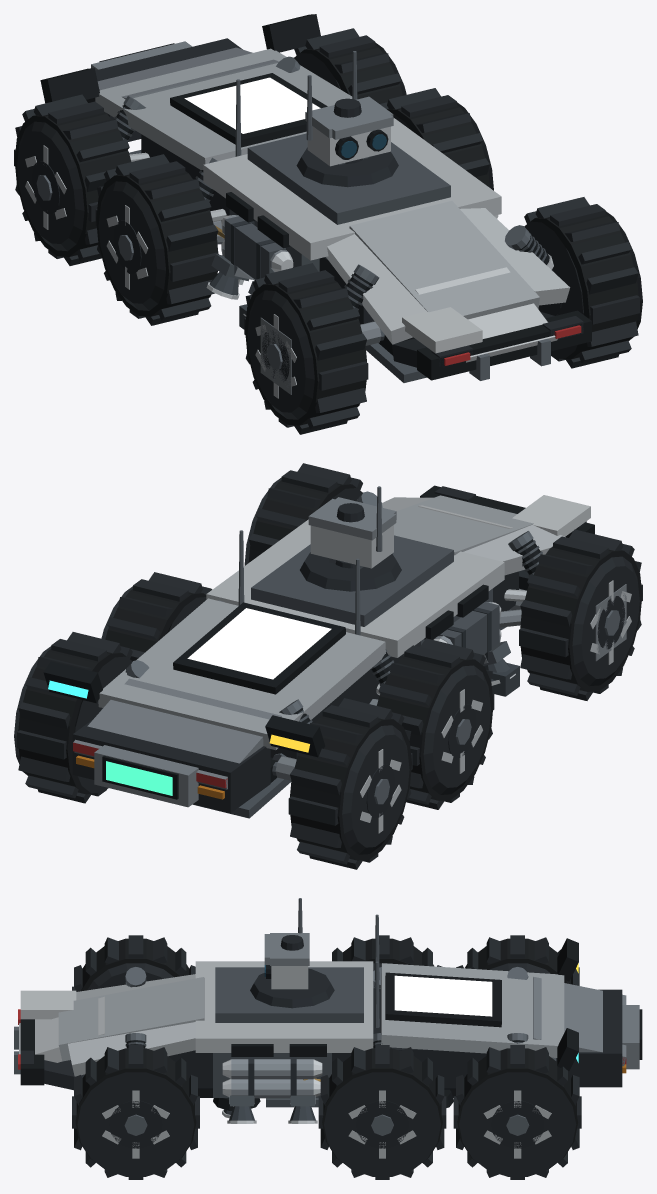
The model's file is r47xs_recon_rover_d0_lod0.glb.
3 renders of one model, top to bottom at view 1: azimuth 30°, elevation 25°; view 2: azimuth 150°, elevation 25°; view 3: azimuth 270°, elevation 25°, orthographic. The views are drawn at different scales.
Parts seen in each view (by area): view 1: CHASSIS_ARMOR_BODY, ZONE_FRONT_BUMPER, WHEEL_ML, WHEEL_FL, WHEEL_RL, WHEEL_FR, WHEEL_RR, WHEEL_MR, ZONE_REAR_PANEL, ZONE_FLANK_NEG_X, DISPLAY_FDAI_TELEMETRY_PANEL, SENSOR_MAST_HEAD (+8 smaller); view 2: CHASSIS_ARMOR_BODY, ZONE_REAR_PANEL, WHEEL_FL, WHEEL_RL, WHEEL_ML, WHEEL_RR, ZONE_FRONT_BUMPER, DISPLAY_FDAI_TELEMETRY_PANEL, WHEEL_MR, WHEEL_FR, SENSOR_MAST_HEAD, ZONE_FLANK_NEG_X (+10 smaller); view 3: CHASSIS_ARMOR_BODY, WHEEL_MR, WHEEL_FR, WHEEL_RR, ZONE_FRONT_BUMPER, ZONE_FLANK_POS_X, ZONE_REAR_PANEL, WHEEL_FL, DISPLAY_FDAI_TELEMETRY_PANEL, WHEEL_RL, WHEEL_ML, SENSOR_MAST_HEAD (+5 smaller).
Part boxes in pixels (bbox=[...]): CHASSIS_ARMOR_BODY: bbox=[95, 48, 501, 355]; ZONE_FRONT_BUMPER: bbox=[326, 201, 591, 382]; WHEEL_ML: bbox=[95, 154, 218, 325]; WHEEL_FL: bbox=[244, 263, 368, 434]; WHEEL_RL: bbox=[14, 94, 131, 265]; WHEEL_FR: bbox=[524, 197, 642, 368]; WHEEL_RR: bbox=[294, 28, 406, 103]; WHEEL_MR: bbox=[380, 88, 493, 190]; ZONE_REAR_PANEL: bbox=[86, 38, 278, 154]; ZONE_FLANK_NEG_X: bbox=[40, 68, 319, 280]; DISPLAY_FDAI_TELEMETRY_PANEL: bbox=[184, 77, 320, 133]; SENSOR_MAST_HEAD: bbox=[305, 75, 393, 166]; CHASSIS_ARMOR_BODY: bbox=[98, 519, 518, 782]; ZONE_REAR_PANEL: bbox=[72, 678, 291, 818]; WHEEL_FL: bbox=[519, 529, 642, 700]; WHEEL_RL: bbox=[288, 698, 412, 869]; WHEEL_ML: bbox=[377, 638, 494, 809]; WHEEL_RR: bbox=[14, 632, 132, 803]; ZONE_FRONT_BUMPER: bbox=[382, 485, 594, 630]; DISPLAY_FDAI_TELEMETRY_PANEL: bbox=[187, 608, 331, 679]; WHEEL_MR: bbox=[101, 572, 212, 661]; WHEEL_FR: bbox=[244, 463, 362, 565]; SENSOR_MAST_HEAD: bbox=[308, 486, 396, 569]; ZONE_FLANK_NEG_X: bbox=[265, 558, 501, 757]; CHASSIS_ARMOR_BODY: bbox=[168, 961, 564, 1107]; WHEEL_MR: bbox=[318, 1045, 446, 1179]; WHEEL_FR: bbox=[72, 1045, 199, 1179]; WHEEL_RR: bbox=[453, 1045, 581, 1179]; ZONE_FRONT_BUMPER: bbox=[14, 974, 204, 1090]; ZONE_FLANK_POS_X: bbox=[213, 961, 578, 1110]; ZONE_REAR_PANEL: bbox=[533, 976, 642, 1087]; WHEEL_FL: bbox=[72, 935, 195, 991]; DISPLAY_FDAI_TELEMETRY_PANEL: bbox=[394, 975, 492, 1016]; WHEEL_RL: bbox=[456, 935, 579, 985]; WHEEL_ML: bbox=[332, 935, 442, 970]; SENSOR_MAST_HEAD: bbox=[264, 898, 309, 989].
Size of the model in its own units: 2.43 by 1.69 by 4.74.
